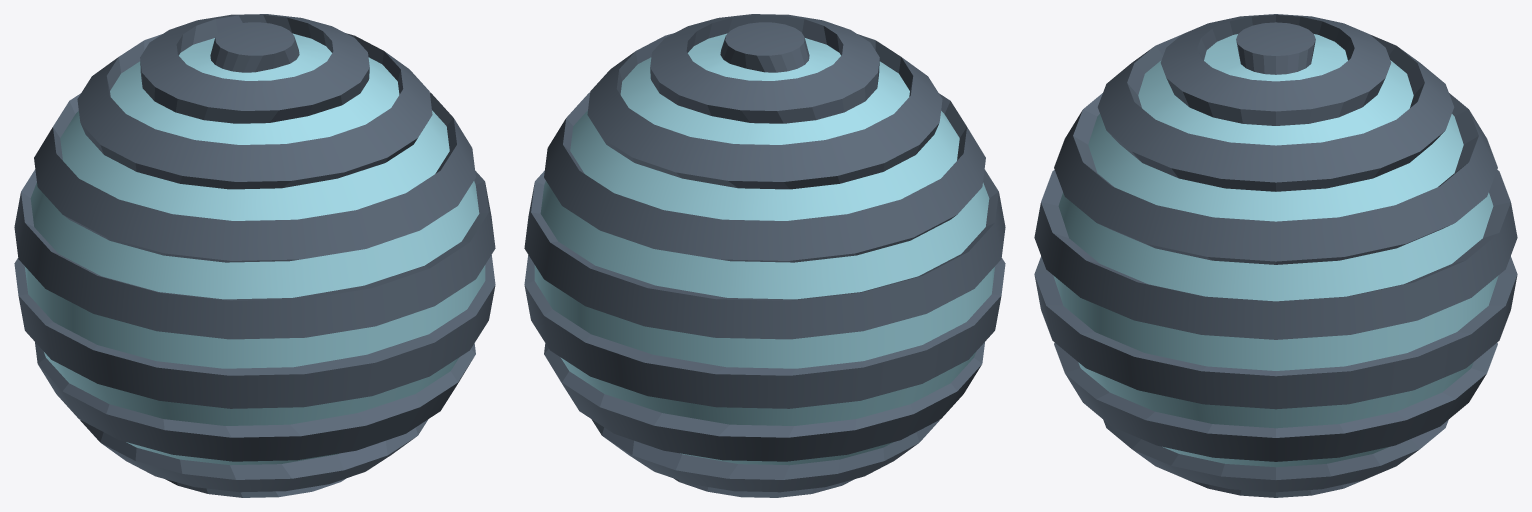
Rendered from villager3.fbx.
3 views of the same model, side by side, from view 1: azimuth 30°, elevation 25°; view 2: azimuth 150°, elevation 25°; view 3: azimuth 270°, elevation 25° (orthographic).
Visible parts, largest first — view 1: pSphere21; view 2: pSphere21; view 3: pSphere21.
Boxes of the visible parts, box(x1,y1,x2,y2) form: pSphere21: box(14, 14, 495, 497); pSphere21: box(524, 14, 1005, 497); pSphere21: box(1034, 14, 1517, 497).
Size of the model in its own units: 58.31 by 58.51 by 58.31.
